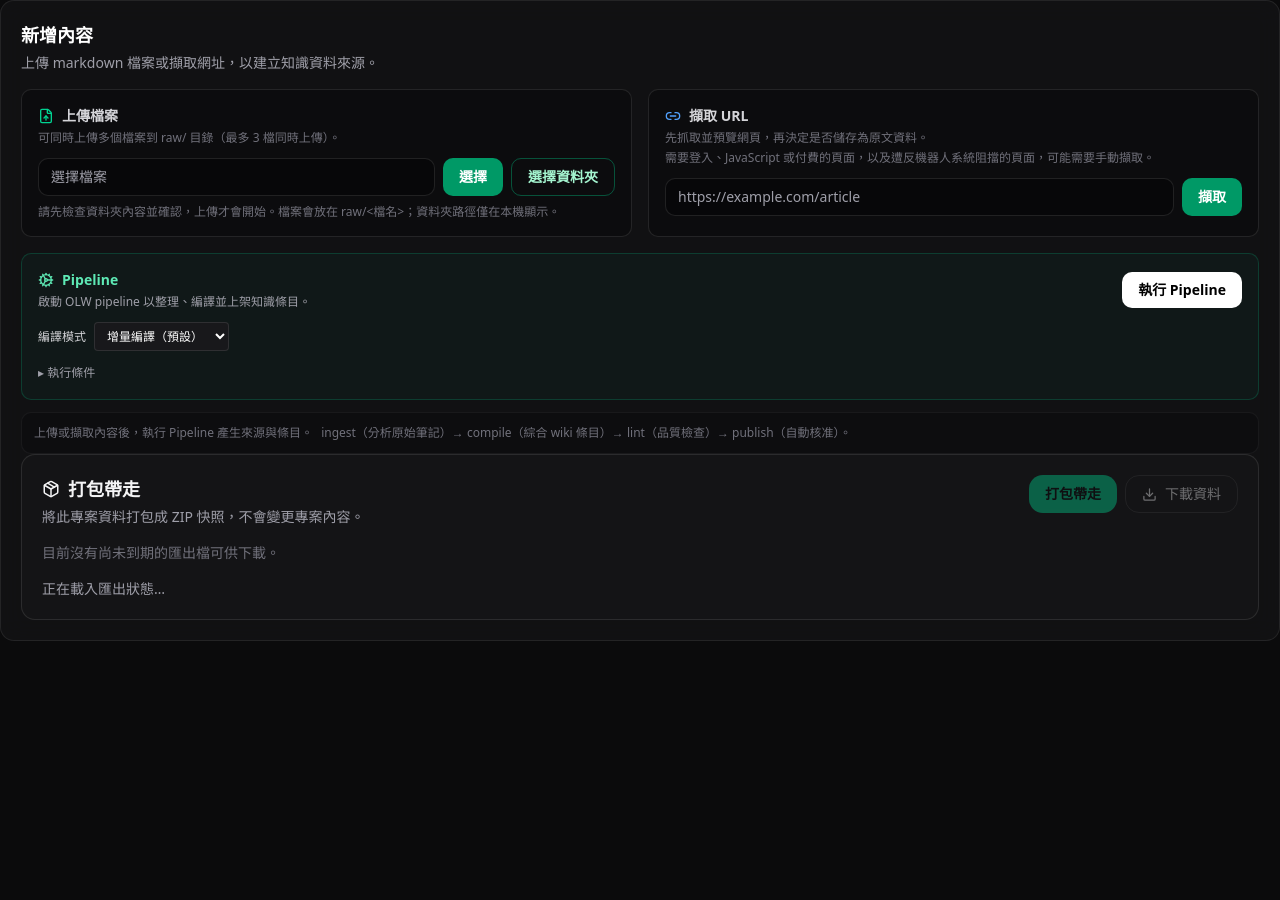
Test: POST rejection releases loading and permits same Project retry
The width and height of the screenshot is (1280, 900).
Select "全面重編譯" in the dropdown with test id "pipeline-compile-mode" at coordinates (162, 336), box x1=94 y1=322 x2=229 y2=351
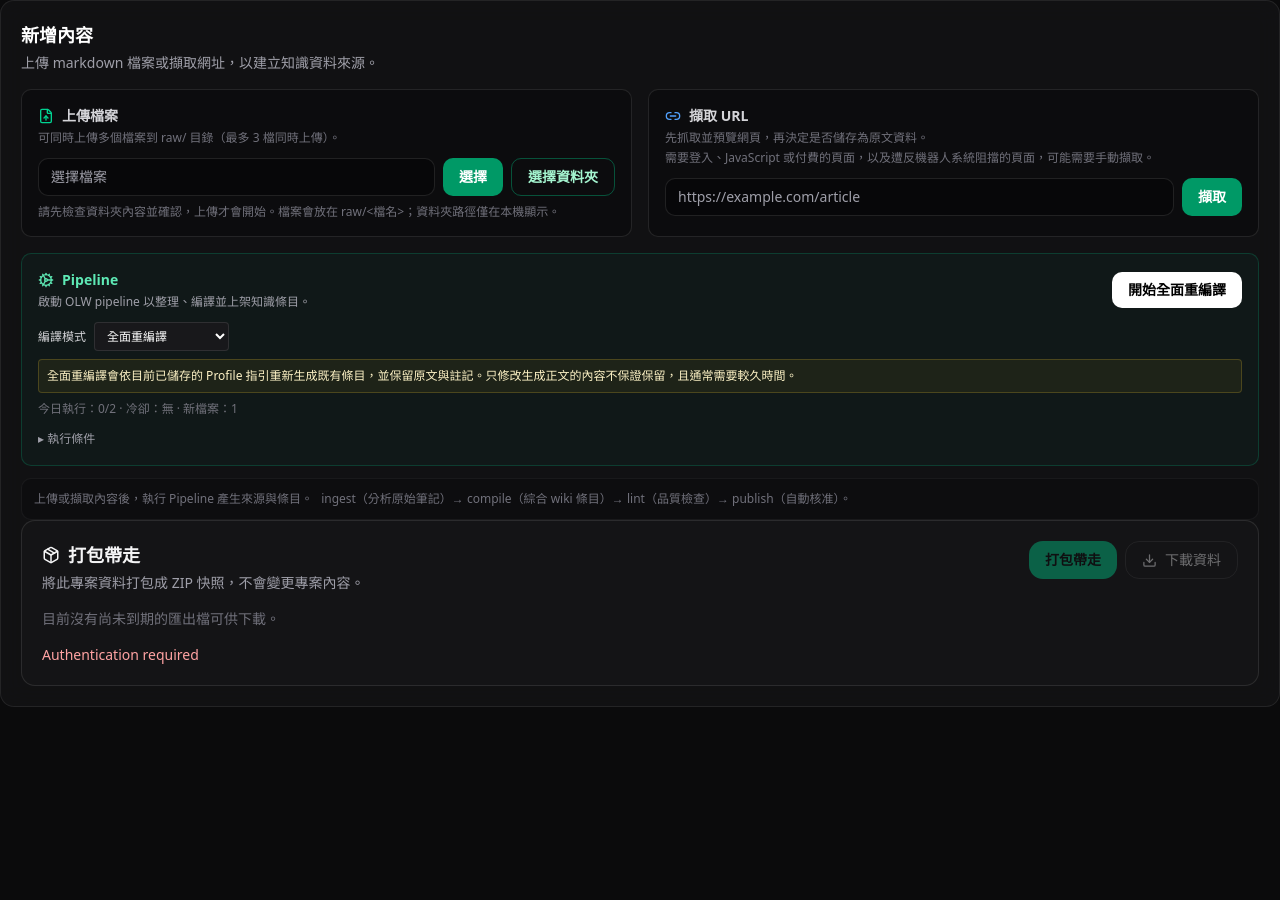
Click the button "開始全面重編譯" at coordinates (1177, 290), box x1=1112 y1=272 x2=1242 y2=308
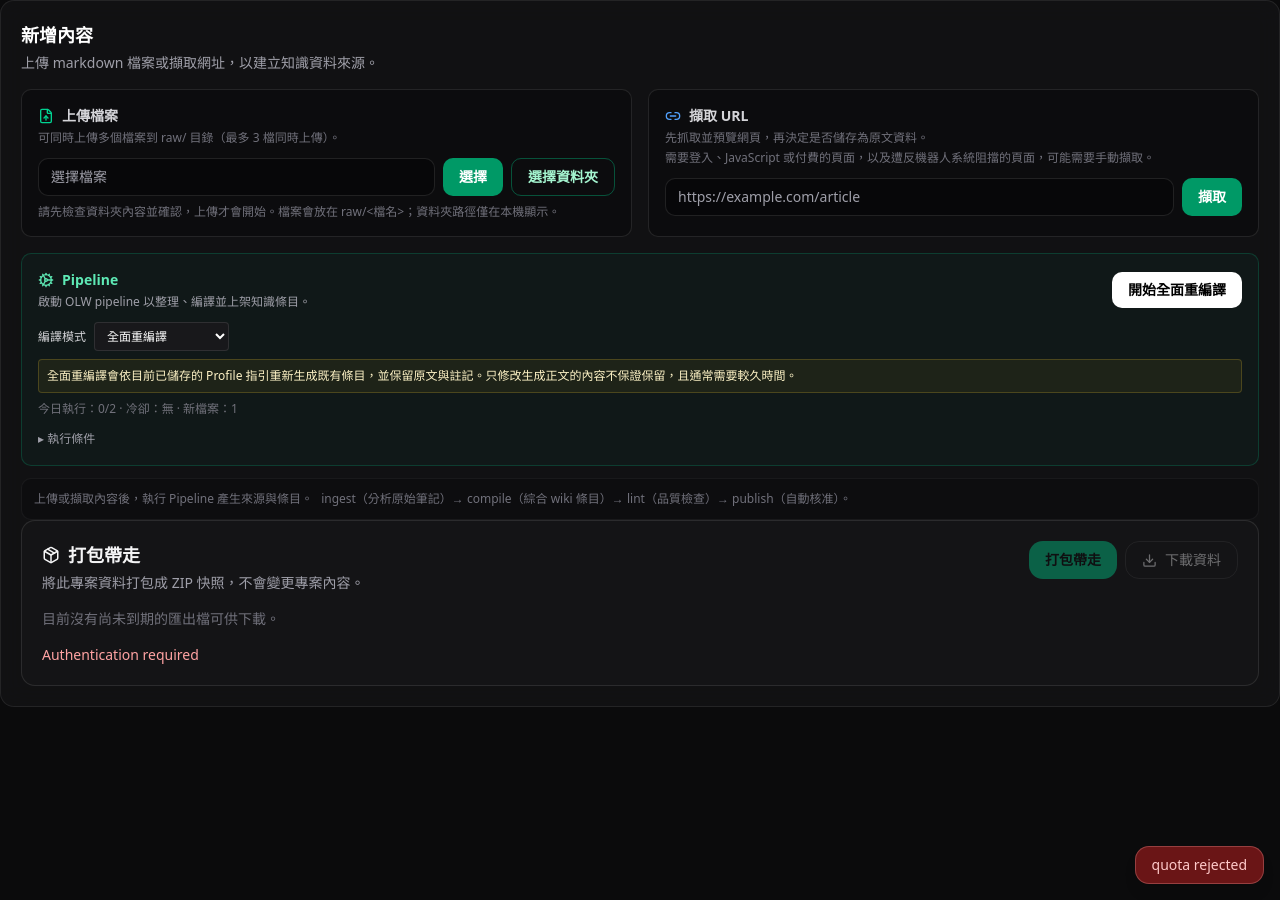
Expected: the text "quota rejected" is shown, x1=1134 y1=846 x2=1264 y2=884
Select "全面重編譯" in the dropdown with test id "pipeline-compile-mode" at coordinates (162, 336), box x1=94 y1=322 x2=229 y2=351
Click the button "開始全面重編譯" at coordinates (1177, 290), box x1=1112 y1=272 x2=1242 y2=308
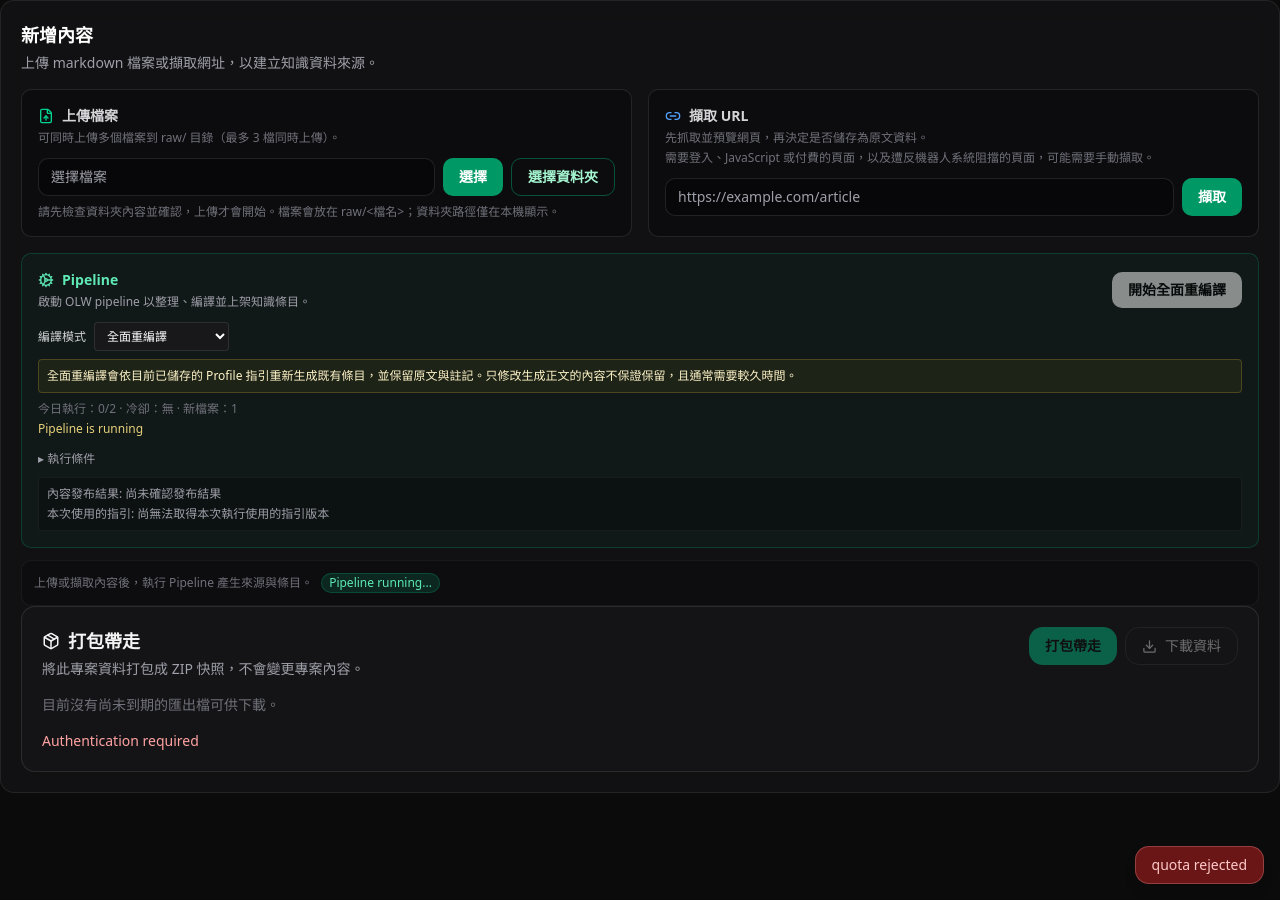
Expected: the text "Pipeline running..." is shown, x1=321 y1=573 x2=440 y2=593
